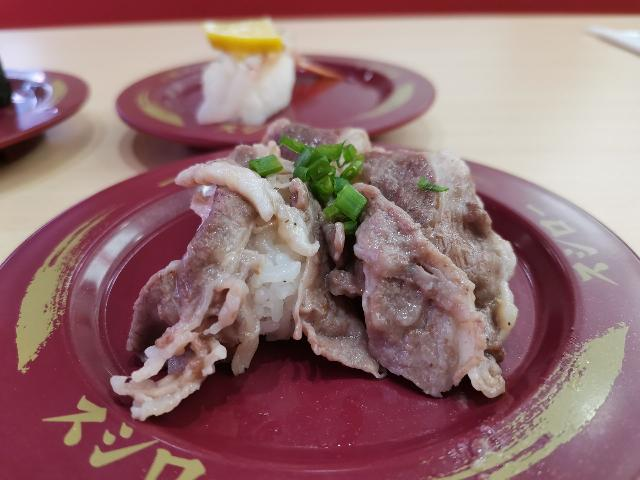janred: (20, 157, 638, 480), (132, 64, 423, 132), (0, 54, 84, 133)
